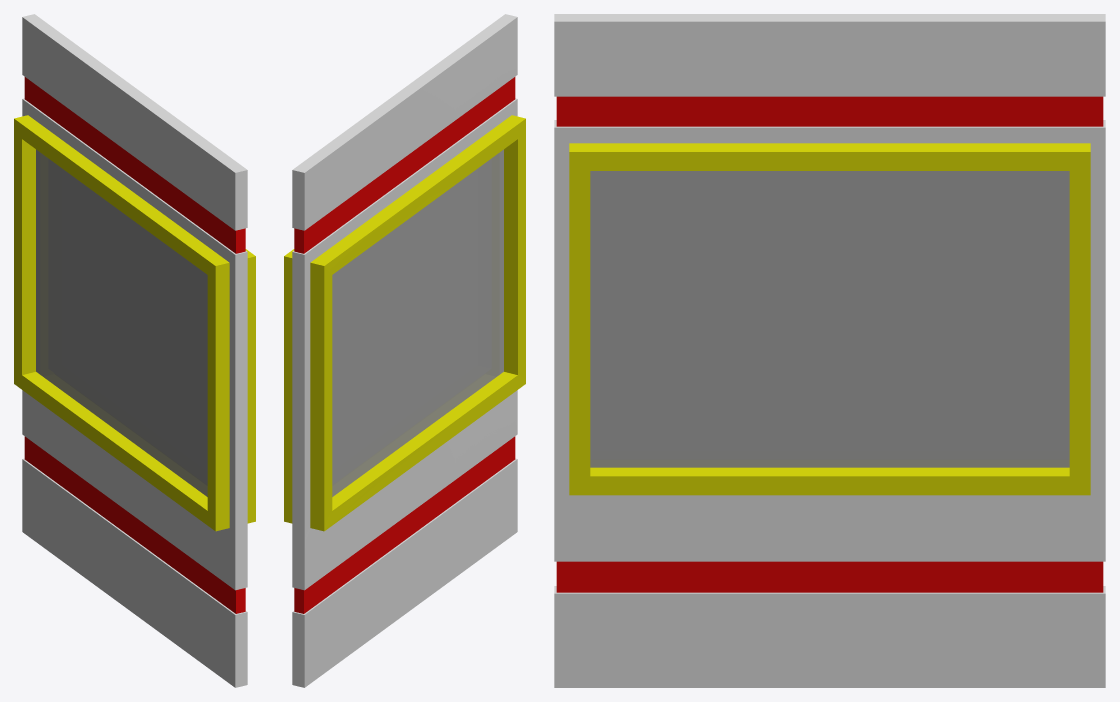
Rendered from Wall02_LP_FBX.fbx.
3 renders of one model, left to right at view 1: azimuth 30°, elevation 25°; view 2: azimuth 150°, elevation 25°; view 3: azimuth 270°, elevation 25°, orthographic. The views are drawn at different scales.
Parts seen in each view (by area): view 1: pCube19; view 2: pCube19; view 3: pCube19.
Part boxes in pixels (<box>): pCube19: <box>14,14,255,687</box>; pCube19: <box>284,14,525,687</box>; pCube19: <box>554,14,1105,687</box>.
Bounding box in the file's own units: 32.8 × 400 × 300.
